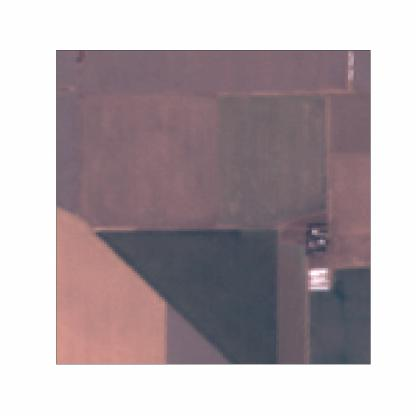silobolsa: (346, 39, 354, 95), (310, 274, 332, 284), (304, 285, 334, 292), (308, 270, 332, 276)
